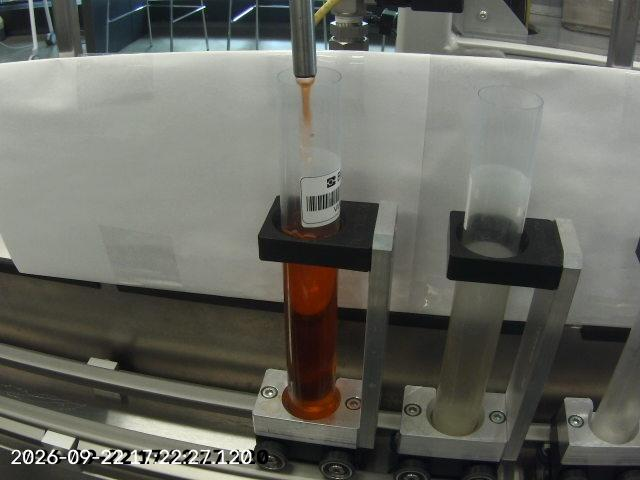vial: (421, 63, 543, 430), (262, 62, 350, 426), (284, 263, 338, 417)
